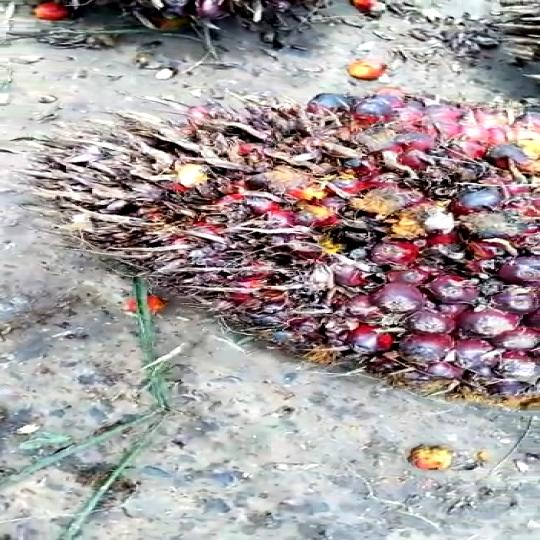masak: (41, 78, 540, 419)
